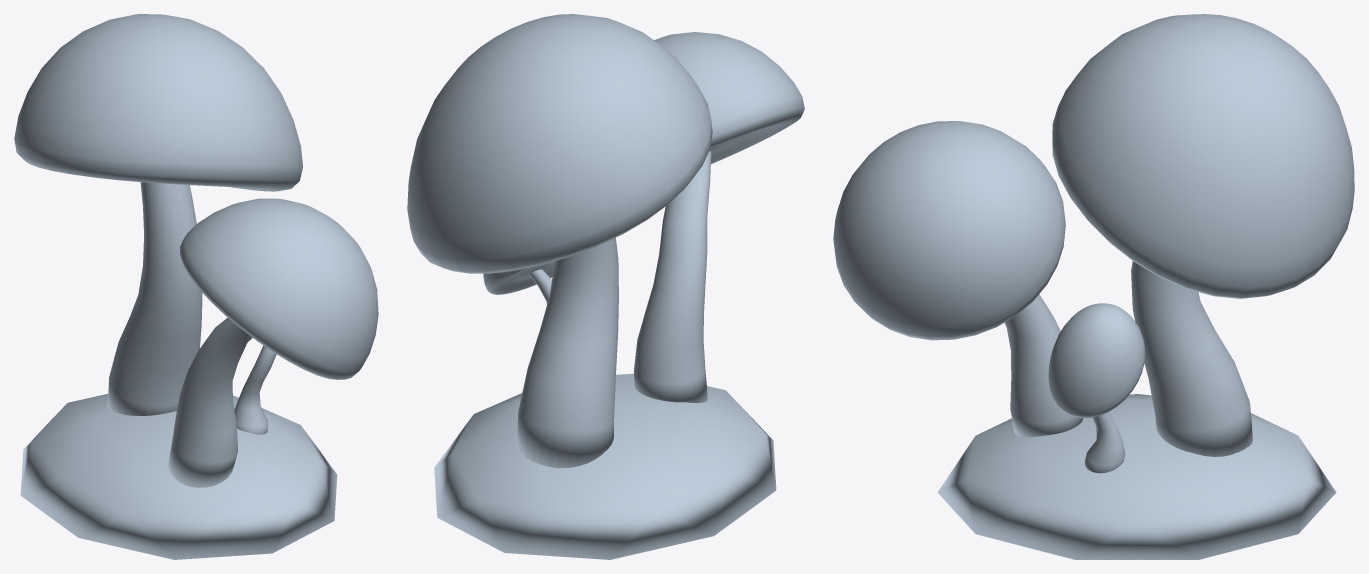
The model's file is mushrooms-e52ee4e3.glb.
3 renders of one model, left to right at view 1: azimuth 30°, elevation 25°; view 2: azimuth 150°, elevation 25°; view 3: azimuth 270°, elevation 25°, orthographic. The views are drawn at different scales.
Visible parts, largest first — view 1: Mushrooms; view 2: Mushrooms; view 3: Mushrooms.
Part boxes in pixels (left/top/right/bottom): Mushrooms: left=14, top=14, right=378, bottom=559; Mushrooms: left=407, top=14, right=804, bottom=559; Mushrooms: left=833, top=14, right=1354, bottom=559.
Size of the model in its own units: 1.56 by 2.47 by 2.5.
